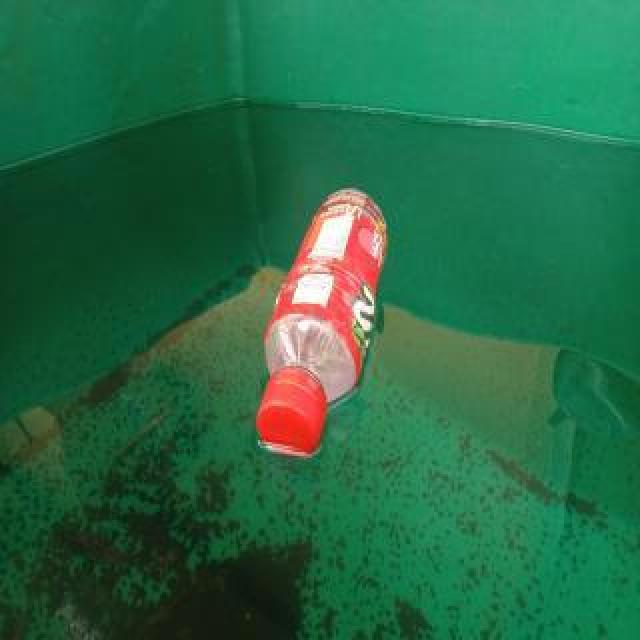bottle: (255, 184, 389, 460)
